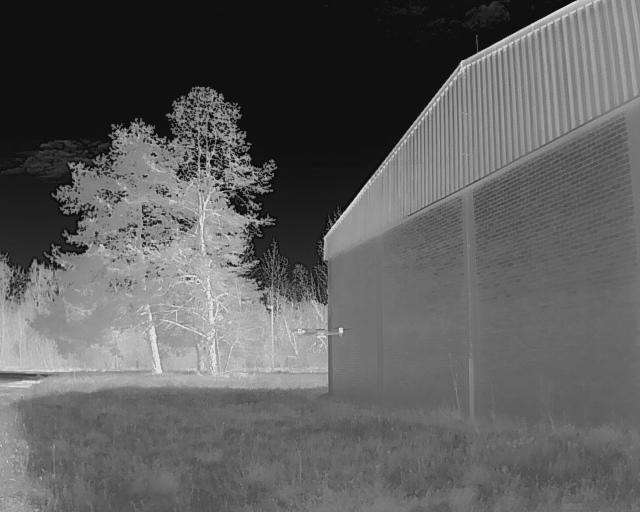drone: (287, 321, 353, 348)
